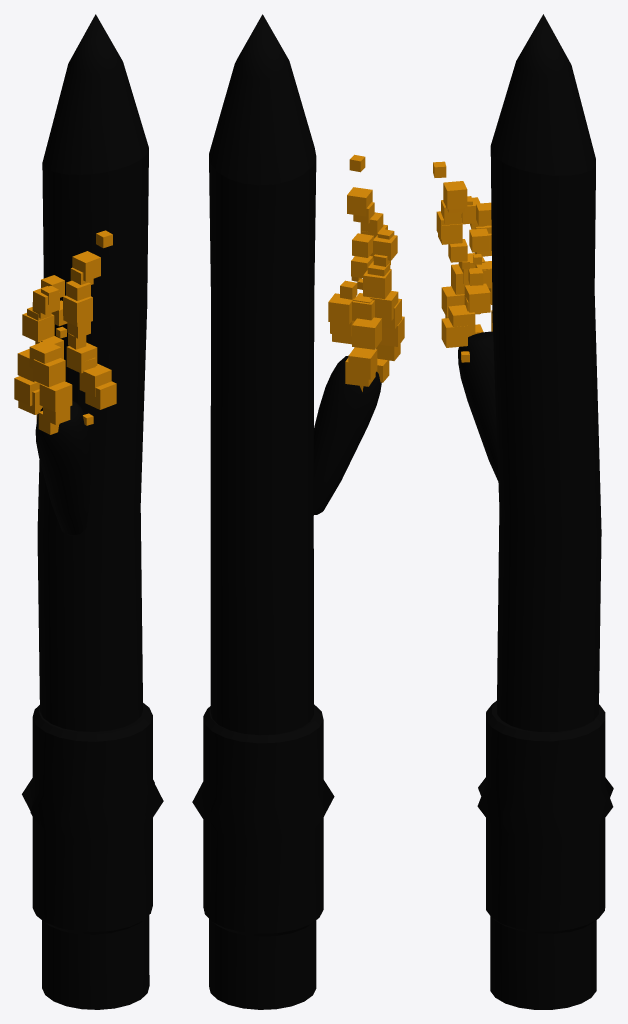
The model's file is log_torch_whole.fbx.
The picture shows the model from 3 angles, left to right: view 1: azimuth 30°, elevation 25°; view 2: azimuth 150°, elevation 25°; view 3: azimuth 270°, elevation 25°; orthographic projection.
Visible parts, largest first — view 1: polySurface18, metal_guard, MASH1_ReproMesh, pCube21; view 2: polySurface18, metal_guard, MASH1_ReproMesh, pCube21; view 3: polySurface18, metal_guard, MASH1_ReproMesh, pCube21.
Part boxes in pixels (x1,y1,x2,y2): polySurface18: [37, 14, 149, 1009]; metal_guard: [22, 703, 163, 934]; MASH1_ReproMesh: [14, 230, 116, 434]; pCube21: [35, 400, 90, 535]; polySurface18: [209, 14, 316, 1009]; metal_guard: [192, 704, 334, 936]; MASH1_ReproMesh: [328, 154, 404, 391]; pCube21: [313, 355, 381, 514]; polySurface18: [490, 14, 601, 1009]; metal_guard: [477, 700, 613, 933]; MASH1_ReproMesh: [433, 161, 492, 362]; pCube21: [458, 331, 498, 480].
Size of the model in its own units: 0.2708 by 1.6 by 0.2685.
